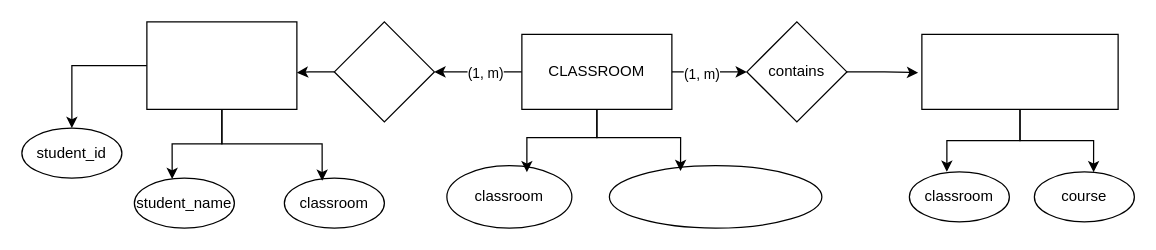
The diagram is 1156 pixels wide and 250 high, and some of its shapes have lost their labels. The centre of each missing label's shape, as x and y in pixels:
CLASSROOM_COURSES: [1019,71]
classroom_description: [715,196]
has: [383,71]
STUDENTS: [221,65]
